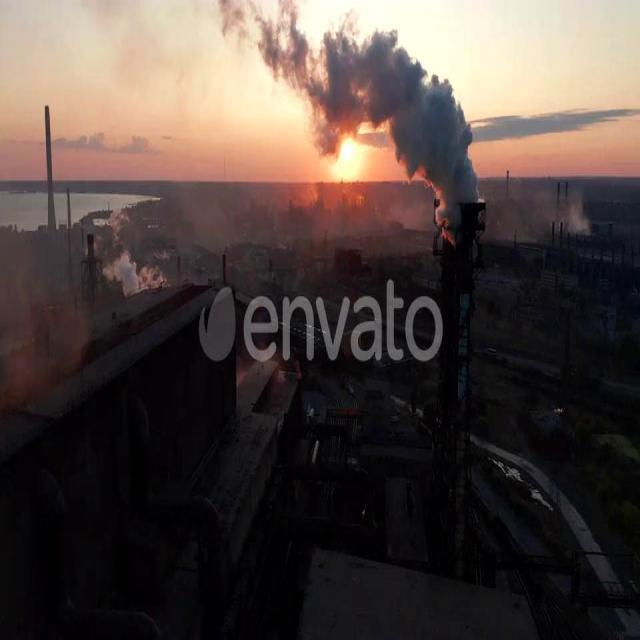Smoke: (265, 0, 480, 216)
